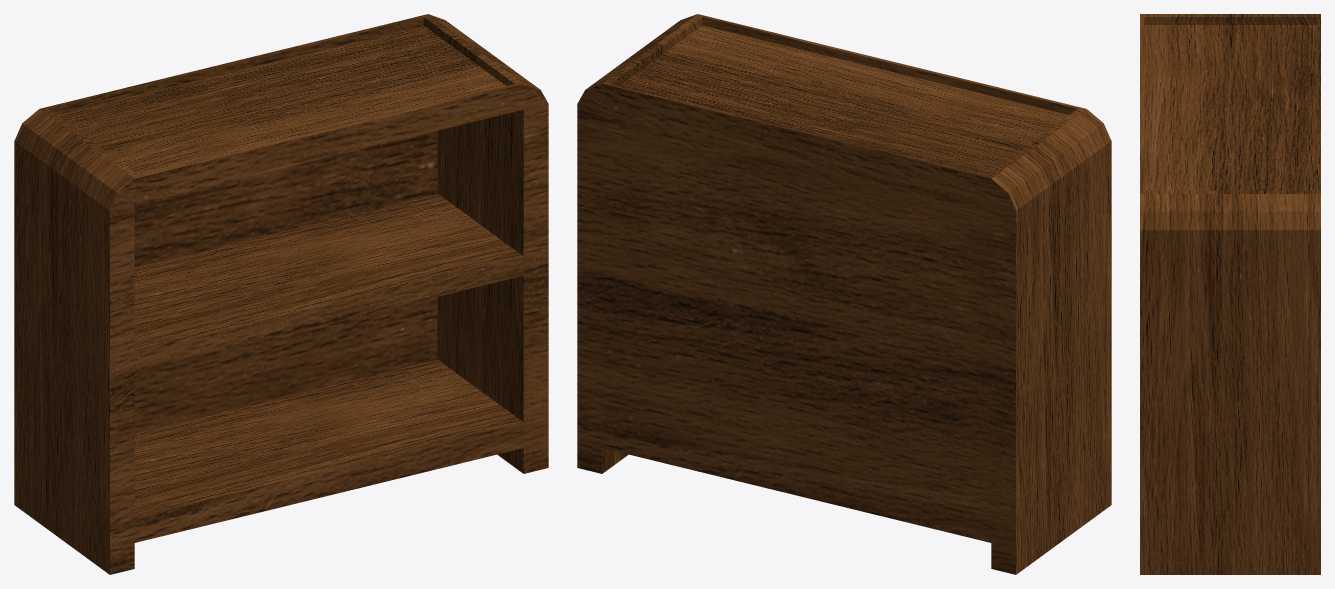
File: book shelf.fbx
3 views of the same model, side by side, from view 1: azimuth 30°, elevation 25°; view 2: azimuth 150°, elevation 25°; view 3: azimuth 270°, elevation 25° (orthographic). The views are drawn at different scales.
Parts seen in each view (by area): view 1: book shelf; view 2: book shelf; view 3: book shelf.
Boxes of the visible parts, x1=… form: book shelf: x1=14, y1=14, x2=548, y2=574; book shelf: x1=577, y1=14, x2=1111, y2=574; book shelf: x1=1140, y1=14, x2=1320, y2=574.
Bounding box in the file's own units: 400 × 340 × 151.
